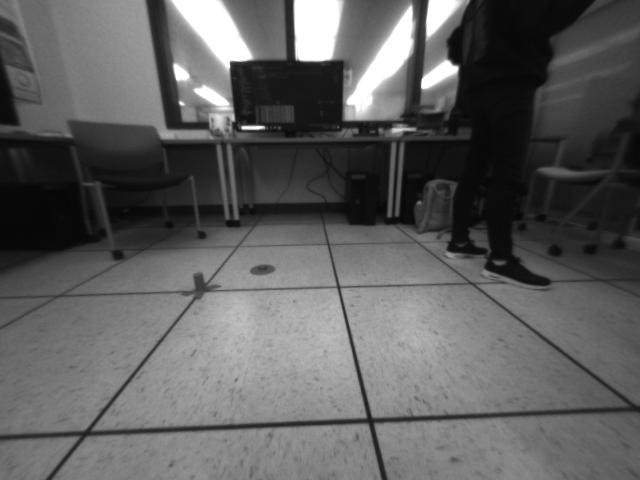X: (181, 271, 222, 300)
